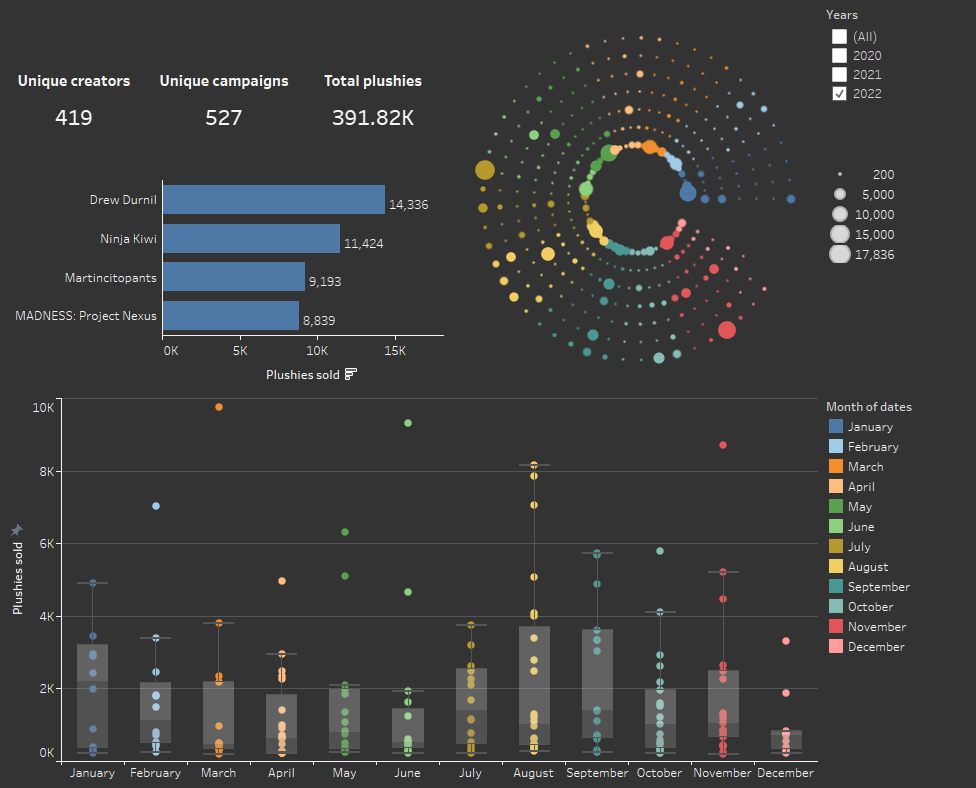

Layout of this report page (visuals, bound fields, positions):
{"tool":"tableau","page":{"name":"Dashboard 1","canvas":[1000,800],"ordinal":0},"visuals":[{"type":"worksheet","title":"unique_creators","mark":"Automatic","box":[8,8,152,174]},{"type":"worksheet","title":"unique_campaigns","mark":"Automatic","box":[160,8,148,174]},{"type":"worksheet","title":"total_plushies","mark":"Automatic","box":[308,8,150,174]},{"type":"worksheet","title":"circle_year","mark":"Automatic","box":[458,8,374,392]},{"type":"filter","title":"circle_year","param":"[federated.00pv42a13ud8ag1dg0p520mbxq8m].[yr:Calculation_836825147305050119:ok]","box":[832,8,160,140]},{"type":"legend","title":"circle_year","param":"[federated.00pv42a13ud8ag1dg0p520mbxq8m].[sum:Calculation_836825147307548680:qk]","box":[832,148,160,126]},{"type":"worksheet","title":"top_creators","mark":"Automatic","rows":["creator_name"],"cols":["Calculation_836825147307548680"],"box":[8,182,450,218]},{"type":"worksheet","title":"monthly_boxplot","mark":"Circle","rows":["Calculation_836825147307548680"],"cols":["Calculation_836825147305050119"],"box":[8,400,824,392]},{"type":"legend","title":"circle_year","param":"[federated.00pv42a13ud8ag1dg0p520mbxq8m].[mn:Calculation_836825147305050119:ok]","box":[832,400,160,279]}]}

Visuals, with their boxes in screenshot pixels (x1, y1, x2, y2), scaled from the page's 1000x800 canvas onto the 976x788 screenshot:
"unique_creators" worksheet: (8, 8, 156, 179)
"unique_campaigns" worksheet: (156, 8, 301, 179)
"total_plushies" worksheet: (301, 8, 447, 179)
"circle_year" worksheet: (447, 8, 812, 394)
"circle_year" filter: (812, 8, 968, 146)
"circle_year" legend: (812, 146, 968, 270)
"top_creators" worksheet: (8, 179, 447, 394)
"monthly_boxplot" worksheet (Circle marks): (8, 394, 812, 780)
"circle_year" legend: (812, 394, 968, 669)
